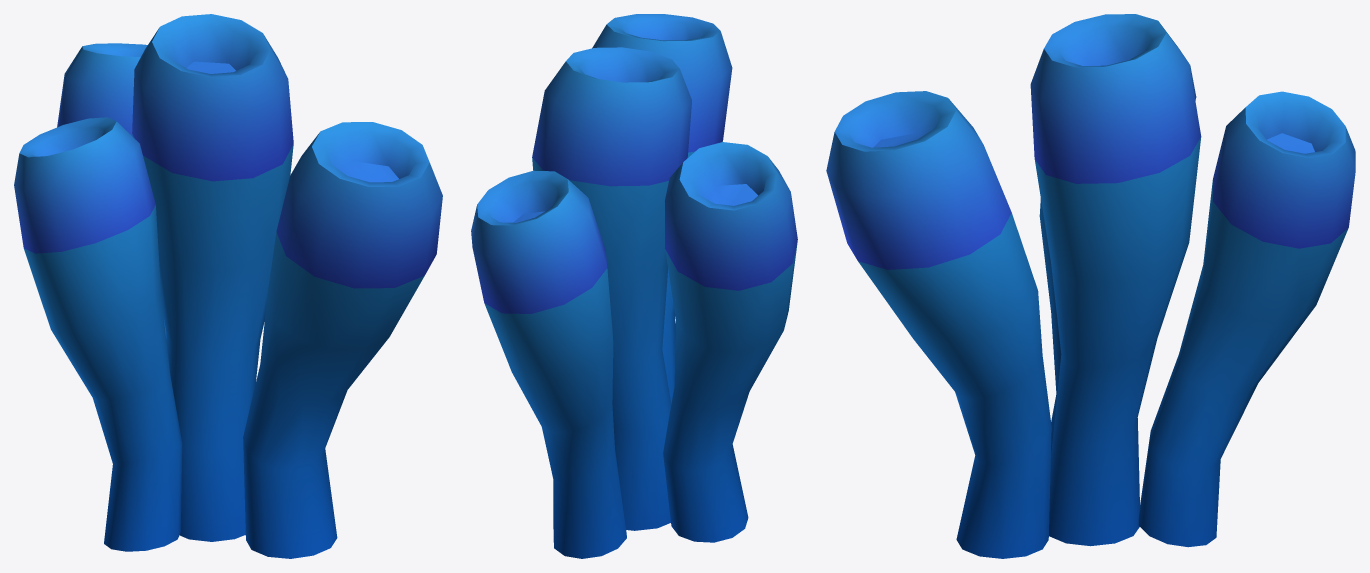
File: coral_blue.glb
3 views of the same model, side by side, from view 1: azimuth 30°, elevation 25°; view 2: azimuth 150°, elevation 25°; view 3: azimuth 270°, elevation 25° (orthographic). The views are drawn at different scales.
Visible parts, largest first — view 1: coral_blue; view 2: coral_blue; view 3: coral_blue.
Boxes of the visible parts, left/top/right/bottom form: coral_blue: left=14, top=14, right=442, bottom=558; coral_blue: left=471, top=14, right=797, bottom=558; coral_blue: left=826, top=14, right=1355, bottom=558.
Size of the model in its own units: 0.437 by 0.6518 by 0.6235.
Materials: 1 (1 with a texture image).
